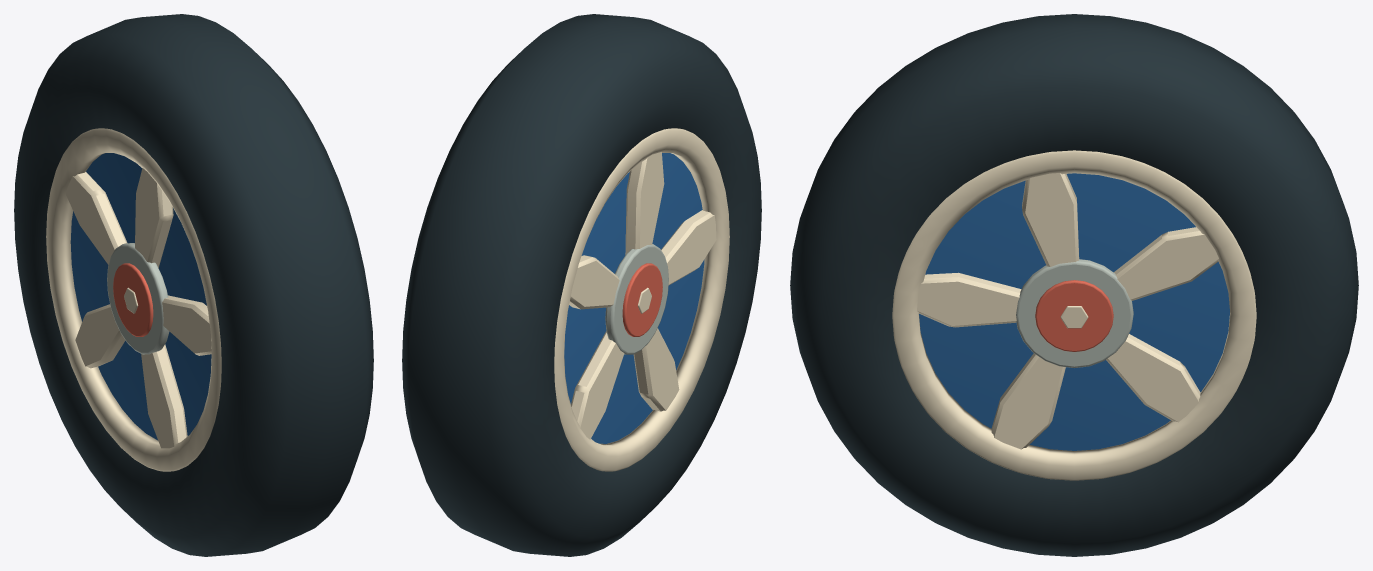
File: scooter.glb
3 views of the same model, side by side, from view 1: azimuth 30°, elevation 25°; view 2: azimuth 150°, elevation 25°; view 3: azimuth 270°, elevation 25° (orthographic). The views are drawn at different scales.
Parts seen in each view (by area): view 1: scooter_DD_Rubber, scooter_DD_Cream, scooter_SF_Cobalt, scooter_DD_Metal, scooter_PlayerColor; view 2: scooter_DD_Rubber, scooter_DD_Cream, scooter_SF_Cobalt, scooter_DD_Metal, scooter_PlayerColor; view 3: scooter_DD_Rubber, scooter_DD_Cream, scooter_SF_Cobalt, scooter_DD_Metal, scooter_PlayerColor.
Part boxes in pixels (x1=…): scooter_DD_Rubber: x1=14, y1=14, x2=373, y2=556; scooter_DD_Cream: x1=46, y1=128, x2=221, y2=471; scooter_SF_Cobalt: x1=70, y1=153, x2=211, y2=440; scooter_DD_Metal: x1=107, y1=243, x2=169, y2=354; scooter_PlayerColor: x1=113, y1=263, x2=153, y2=336; scooter_DD_Rubber: x1=402, y1=14, x2=761, y2=556; scooter_DD_Cream: x1=554, y1=128, x2=729, y2=471; scooter_SF_Cobalt: x1=564, y1=153, x2=704, y2=443; scooter_DD_Metal: x1=605, y1=244, x2=668, y2=354; scooter_PlayerColor: x1=622, y1=263, x2=662, y2=336; scooter_DD_Rubber: x1=790, y1=14, x2=1358, y2=556; scooter_DD_Cream: x1=892, y1=150, x2=1256, y2=480; scooter_SF_Cobalt: x1=919, y1=173, x2=1229, y2=450; scooter_DD_Metal: x1=1016, y1=259, x2=1133, y2=367; scooter_PlayerColor: x1=1035, y1=280, x2=1113, y2=351.
Bounding box in the file's own units: 0.27 × 1 × 1.
